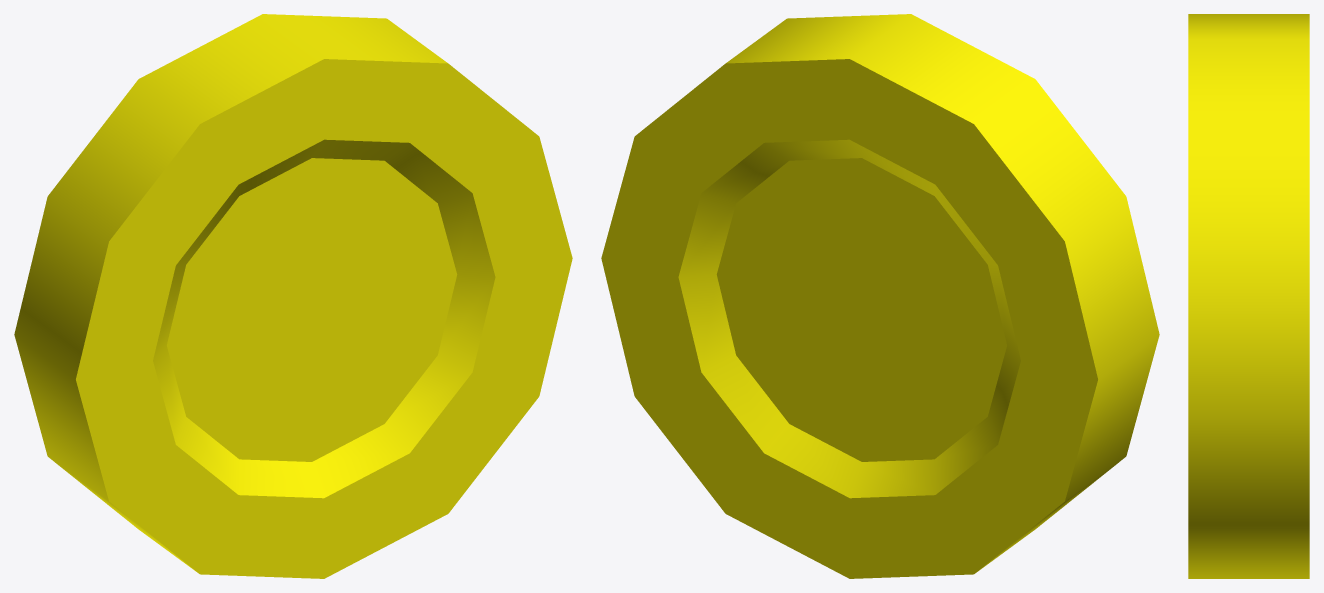
The model's file is coin.glb.
3 renders of one model, left to right at view 1: azimuth 30°, elevation 25°; view 2: azimuth 150°, elevation 25°; view 3: azimuth 270°, elevation 25°, orthographic.
Parts seen in each view (by area): view 1: coin; view 2: coin; view 3: coin.
Boxes of the visible parts, x1,y1,x2,y2 form: coin: (14,14,572,578); coin: (601,14,1159,578); coin: (1188,14,1309,578).
Bounding box in the file's own units: 0.7 × 0.7 × 0.15.
